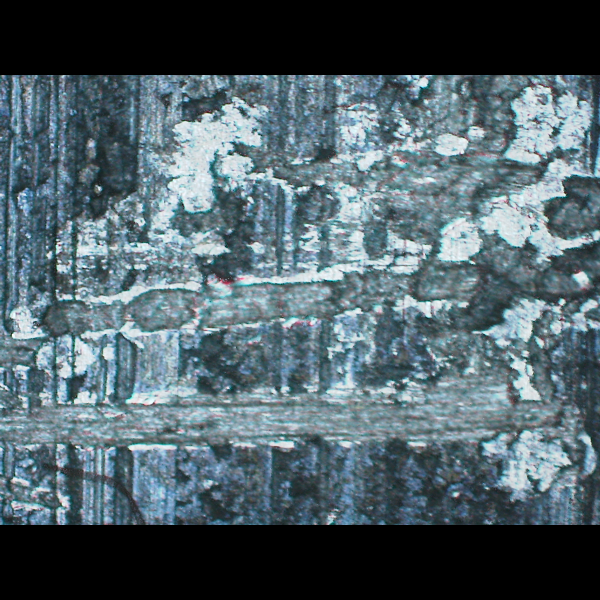d: (2, 85, 593, 356), (0, 373, 585, 457)
